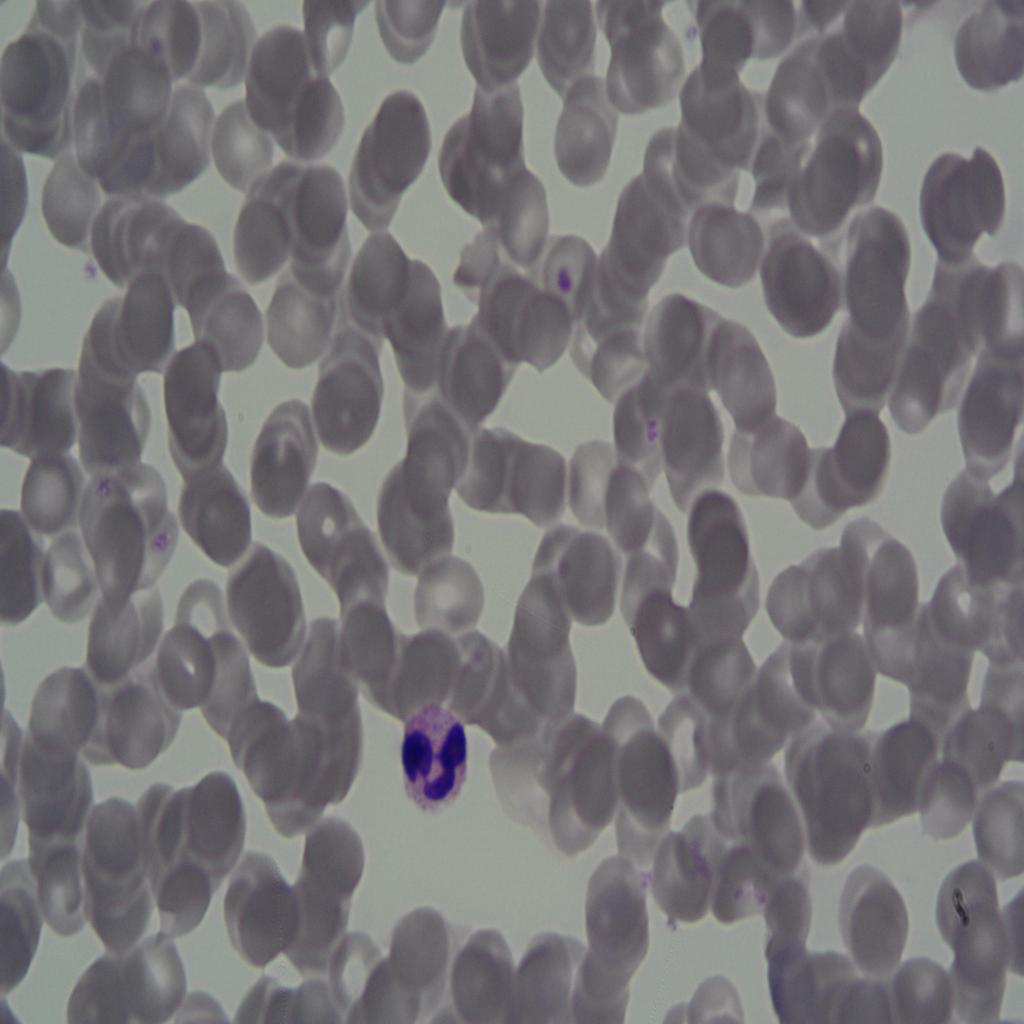Neutrofil: (391, 698, 472, 818)
Platelet: (552, 264, 578, 304)
